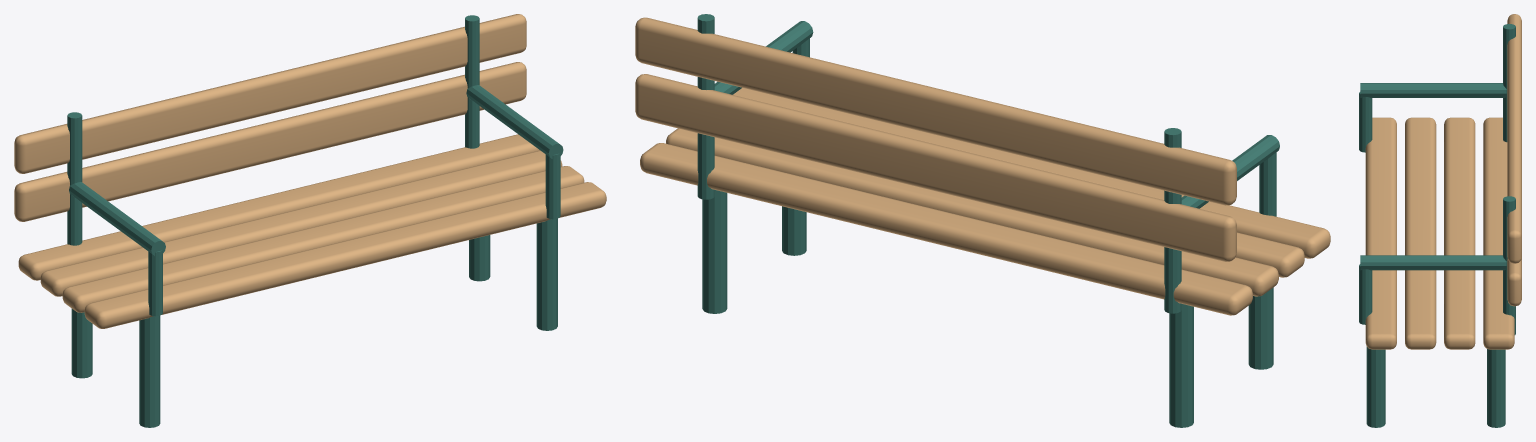
File: bench.glb
3 views of the same model, side by side, from view 1: azimuth 30°, elevation 25°; view 2: azimuth 150°, elevation 25°; view 3: azimuth 270°, elevation 25° (orthographic). The views are drawn at different scales.
Parts seen in each view (by area): view 1: Back slat.001, Back slat, Seat slat.003, Seat slat.001, Seat slat.002, Seat slat, Cast iron leg.001, Cast iron leg.003, Bench arm.001, Bench arm, Back support, Back support.001 (+4 smaller); view 2: Back slat.001, Back slat, Seat slat, Seat slat.001, Seat slat.003, Cast iron leg.002, Cast iron leg, Cast iron leg.001, Seat slat.002, Back support, Back support.001, Bench arm (+3 smaller); view 3: Seat slat.001, Seat slat.002, Seat slat.003, Seat slat, Back slat.001, Bench arm.001, Bench arm, Cast iron leg.003, Cast iron leg.002, Back support.001, Arm upright, Arm upright.001 (+2 smaller).
Boxes of the visible parts, box(x1,y1,x2,y2) form: Back slat.001: box(14, 14, 526, 173); Back slat: box(14, 62, 526, 221); Seat slat.003: box(84, 182, 606, 328); Seat slat.001: box(40, 150, 562, 296); Seat slat.002: box(62, 166, 584, 312); Seat slat: box(18, 134, 539, 280); Cast iron leg.001: box(139, 315, 160, 427); Cast iron leg.003: box(536, 218, 557, 330); Bench arm.001: box(466, 85, 563, 158); Bench arm: box(69, 182, 165, 255); Back support: box(67, 112, 82, 245); Back support.001: box(465, 15, 479, 148); Back slat.001: box(635, 17, 1236, 205); Back slat: box(635, 74, 1236, 261); Seat slat: box(640, 143, 1252, 315); Seat slat.001: box(666, 128, 1278, 296); Seat slat.003: box(733, 87, 1330, 258); Cast iron leg.002: box(702, 190, 727, 313); Cast iron leg: box(1169, 304, 1193, 427); Cast iron leg.001: box(1248, 287, 1273, 369); Seat slat.002: box(1236, 232, 1304, 277); Back support: box(1164, 128, 1181, 313); Back support.001: box(697, 14, 714, 199); Bench arm: box(1181, 135, 1279, 208); Seat slat.001: box(1444, 117, 1475, 349); Seat slat.002: box(1405, 117, 1436, 349); Seat slat.003: box(1365, 117, 1396, 349); Seat slat: box(1483, 117, 1514, 349); Back slat.001: box(1507, 14, 1521, 263); Bench arm.001: box(1360, 255, 1506, 270); Bench arm: box(1360, 83, 1506, 97); Cast iron leg.003: box(1366, 346, 1385, 427); Cast iron leg.002: box(1487, 349, 1505, 427); Back support.001: box(1503, 196, 1515, 334); Arm upright: box(1359, 92, 1372, 152); Arm upright.001: box(1359, 264, 1372, 324).
Size of the model in its own units: 2 by 0.95 by 0.6225.
